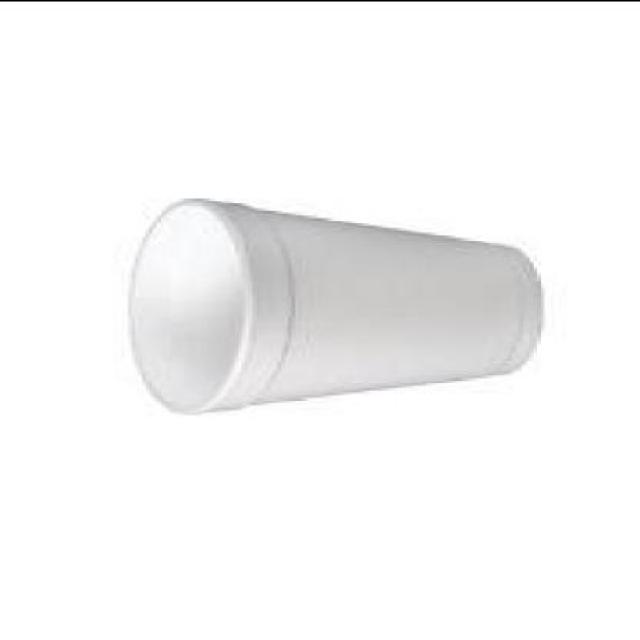PAPER: (125, 194, 540, 406)
